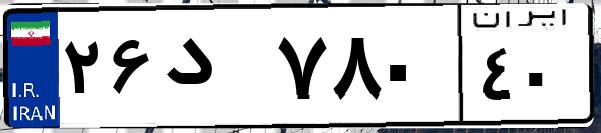0: (385, 28, 445, 110), (525, 38, 570, 115)
2: (57, 26, 110, 100)
4: (475, 38, 525, 113)
6: (110, 28, 158, 98)
7: (270, 28, 330, 110)
8: (330, 28, 385, 110)
د: (158, 20, 270, 120)
